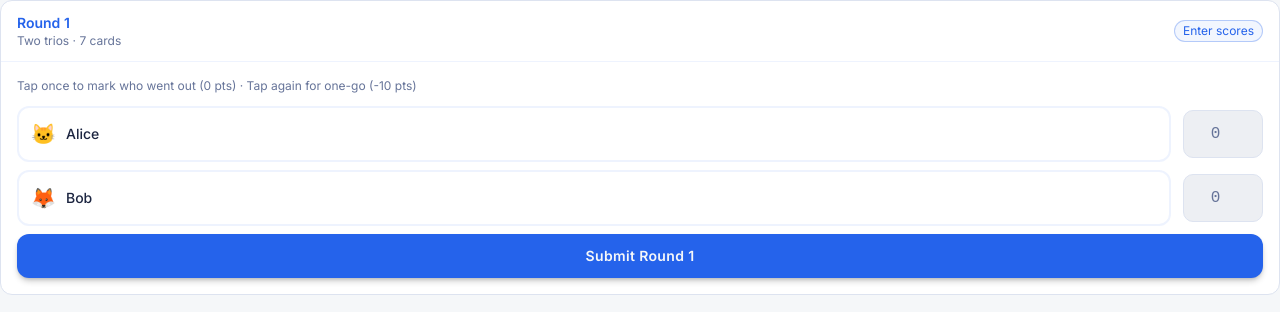
Test case: ScoreEntry — went out toggle › third tap deselects and restores the score input
The width and height of the screenshot is (1280, 312).
Click the button "🐱 Alice".
click(83, 134)  # box top-left (17, 106), bottom-right (1171, 162)
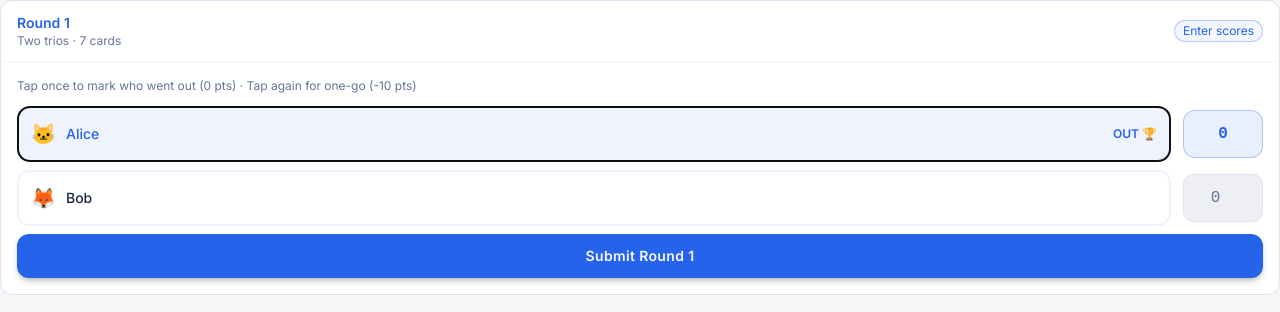
Click the button "🐱 Alice OUT 🏆".
click(83, 134)  # box top-left (17, 106), bottom-right (1171, 162)
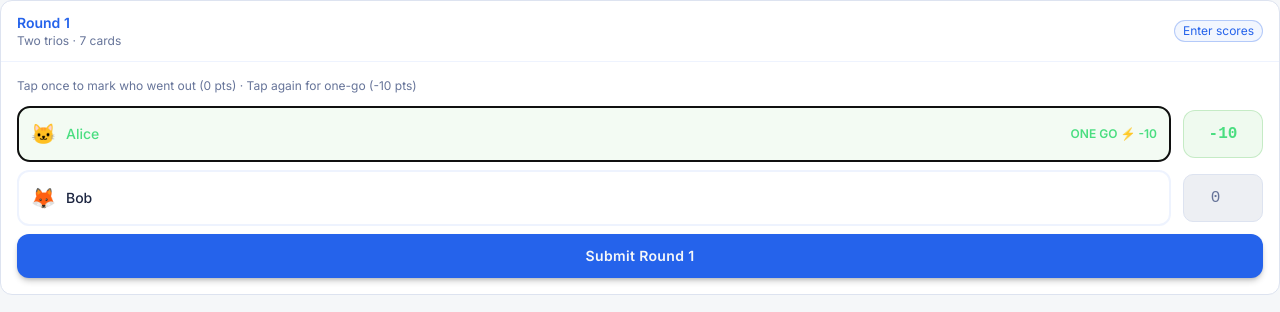
Click the button "🐱 Alice ONE GO ⚡ -10".
click(83, 134)  # box top-left (17, 106), bottom-right (1171, 162)
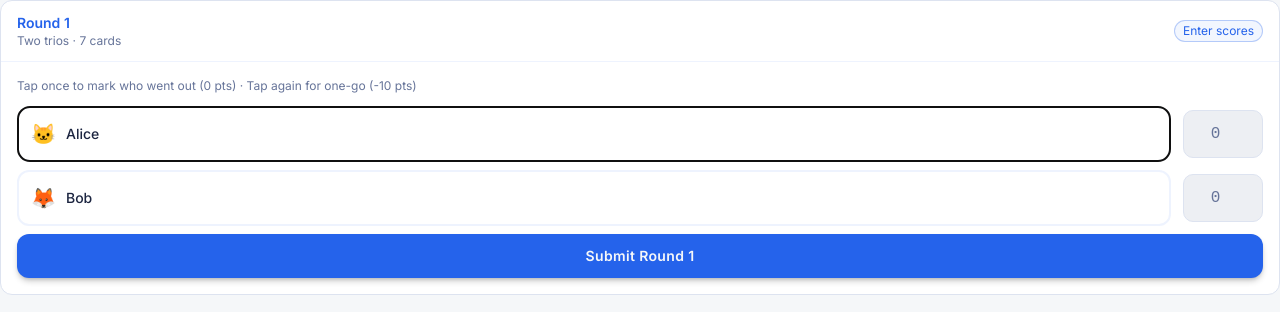
Expected: the text "OUT 🏆" is not shown
Now the text "ONE GO" is gone
